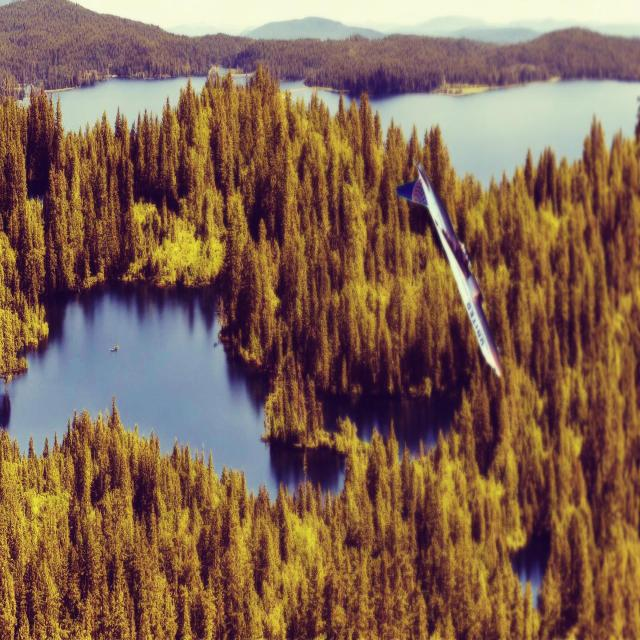airplane: (395, 160, 503, 380)
